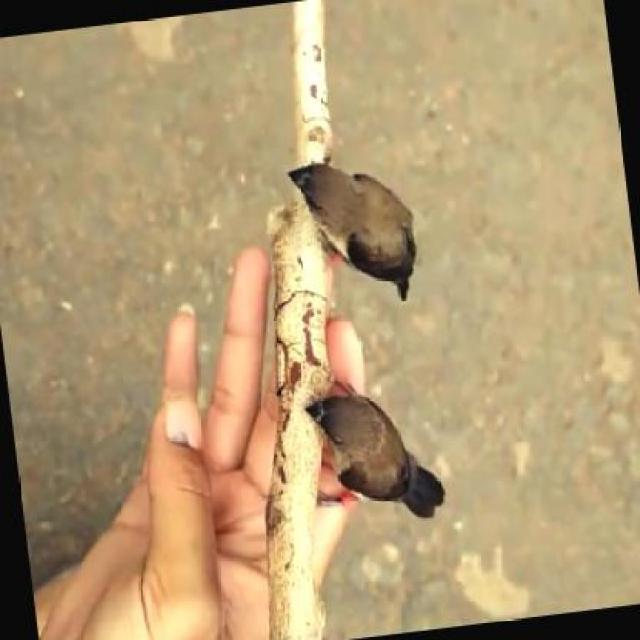Bird: (290, 379, 527, 586), (285, 148, 457, 306)
